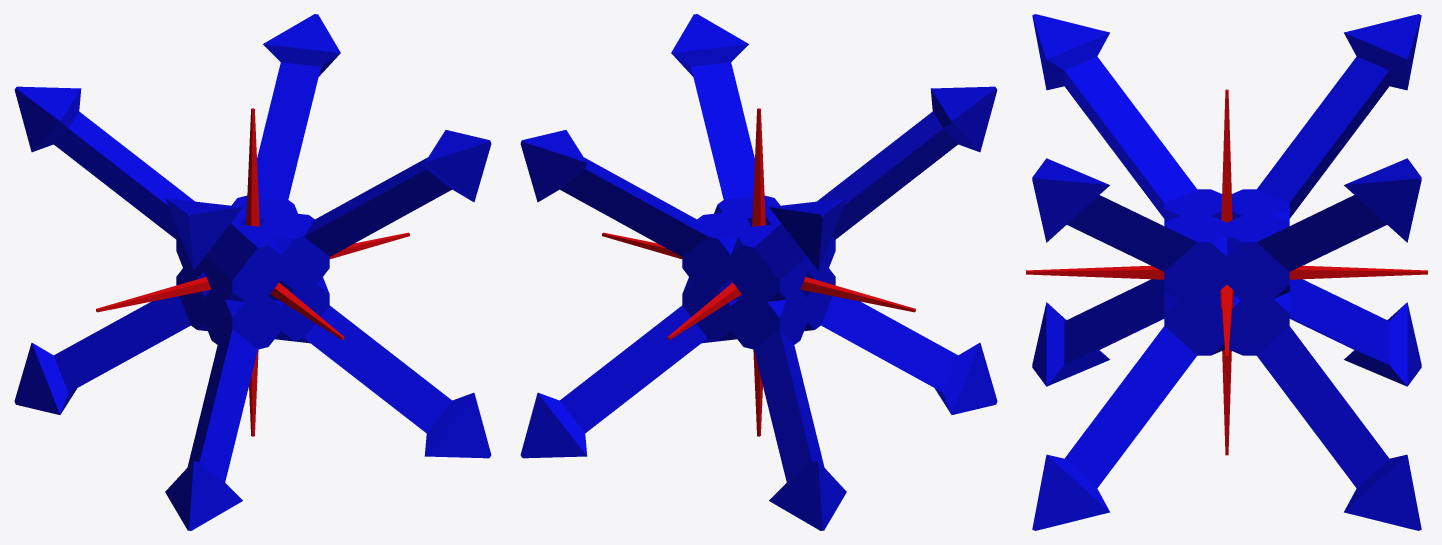
The model's file is obstacle4.fbx.
The picture shows the model from 3 angles, left to right: view 1: azimuth 30°, elevation 25°; view 2: azimuth 150°, elevation 25°; view 3: azimuth 270°, elevation 25°; orthographic projection. The views are drawn at different scales.
Parts seen in each view (by area): view 1: Cube, Cube.001; view 2: Cube, Cube.001; view 3: Cube, Cube.001.
Boxes of the visible parts, x1,y1,x2,y2 form: Cube: (14, 14, 491, 530); Cube.001: (96, 108, 409, 436); Cube: (520, 14, 997, 530); Cube.001: (602, 108, 915, 436); Cube: (1032, 14, 1421, 530); Cube.001: (1026, 89, 1427, 455).
Bounding box in the file's own units: 642 × 642 × 642.
